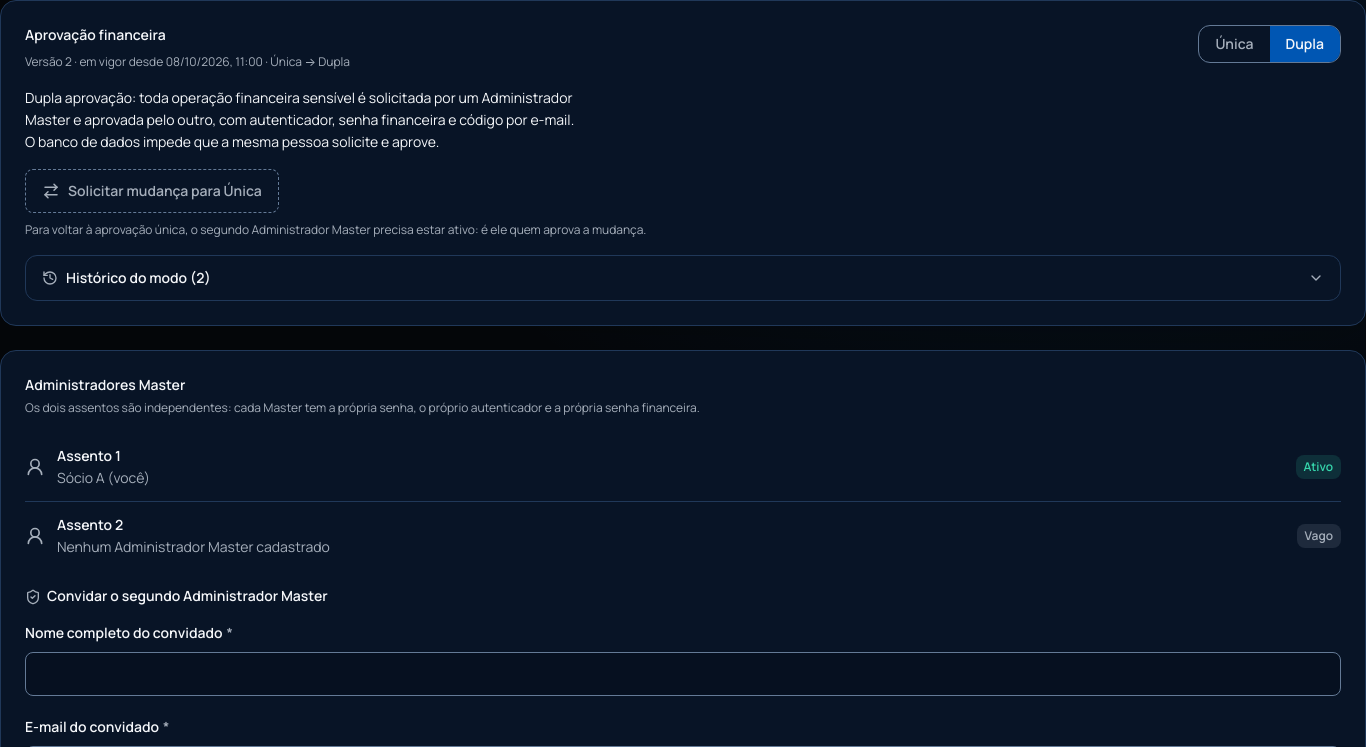
Test: Segurança da instância — dupla aprovação › lista os assentos (nome e estado, sem e-mail), o formulário de convite e o histórico para o Master
The width and height of the screenshot is (1366, 747).
Expected: the element named "Modo atual: Dupla" is shown, x1=1198 y1=25 x2=1341 y2=63
Expected: the text "Sócio A (você)" is shown, x1=57 y1=467 x2=150 y2=489
histórico (versão, quem pediu, quem autorizou, motivo)
Click the heading "Histórico do modo (2)": (131, 278) x1=42 y1=268 x2=1324 y2=287
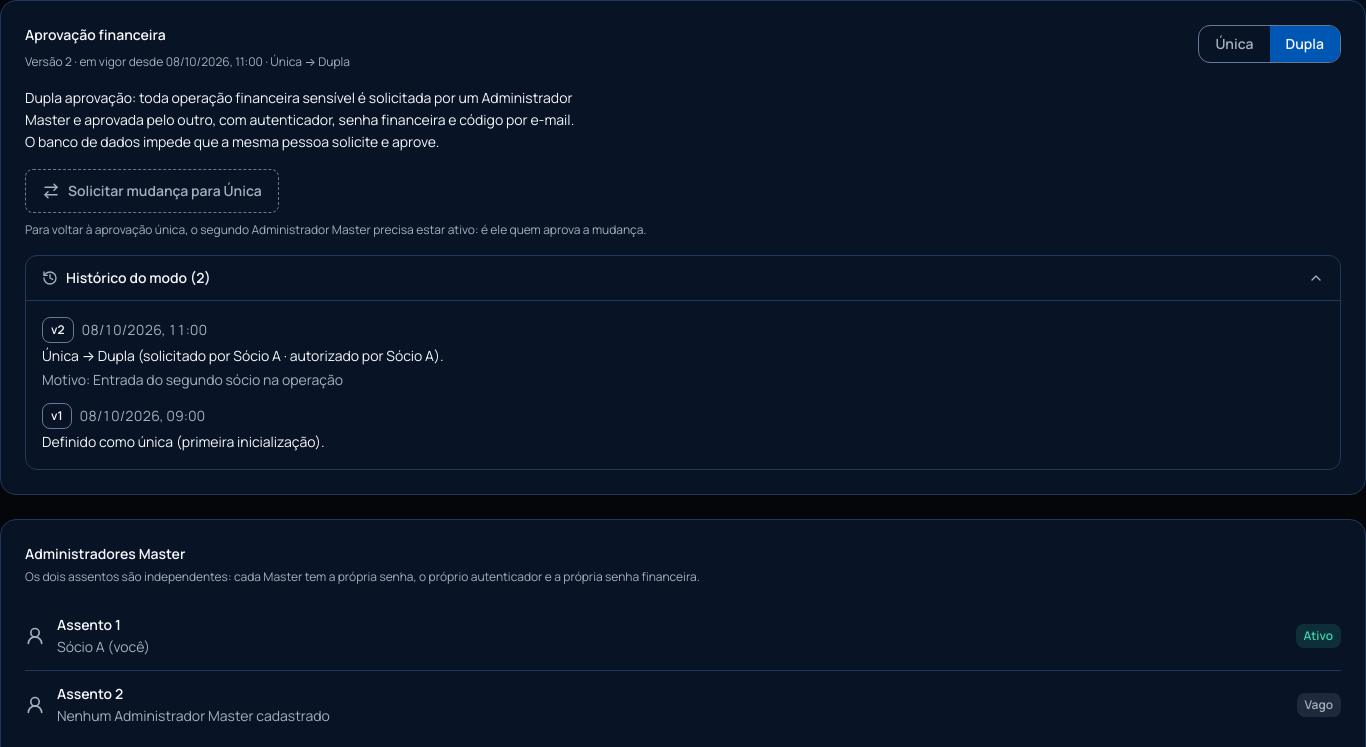
Expected: the text "Motivo: Entrada do segundo sócio na operação" is shown, x1=42 y1=370 x2=343 y2=389
